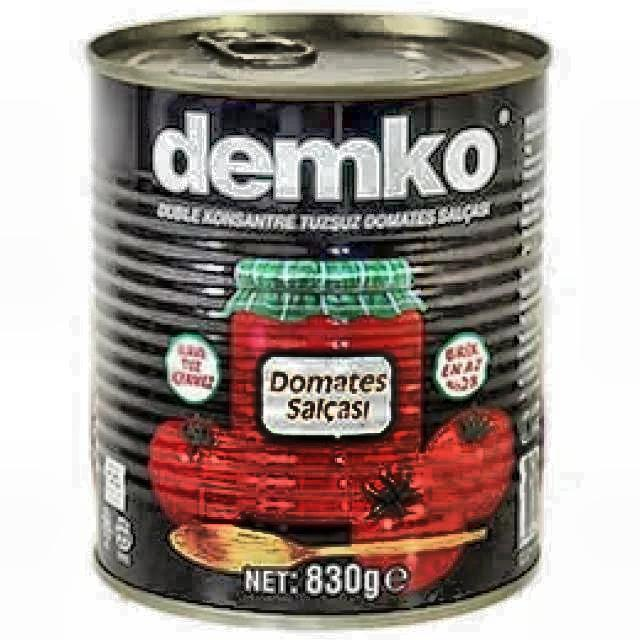metal: (86, 12, 553, 625)
